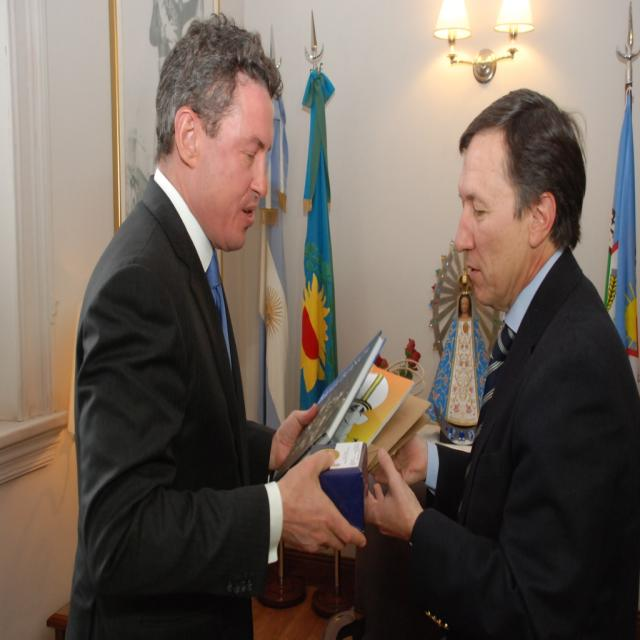no_helmet: (452, 157, 602, 229), (146, 111, 298, 182)
